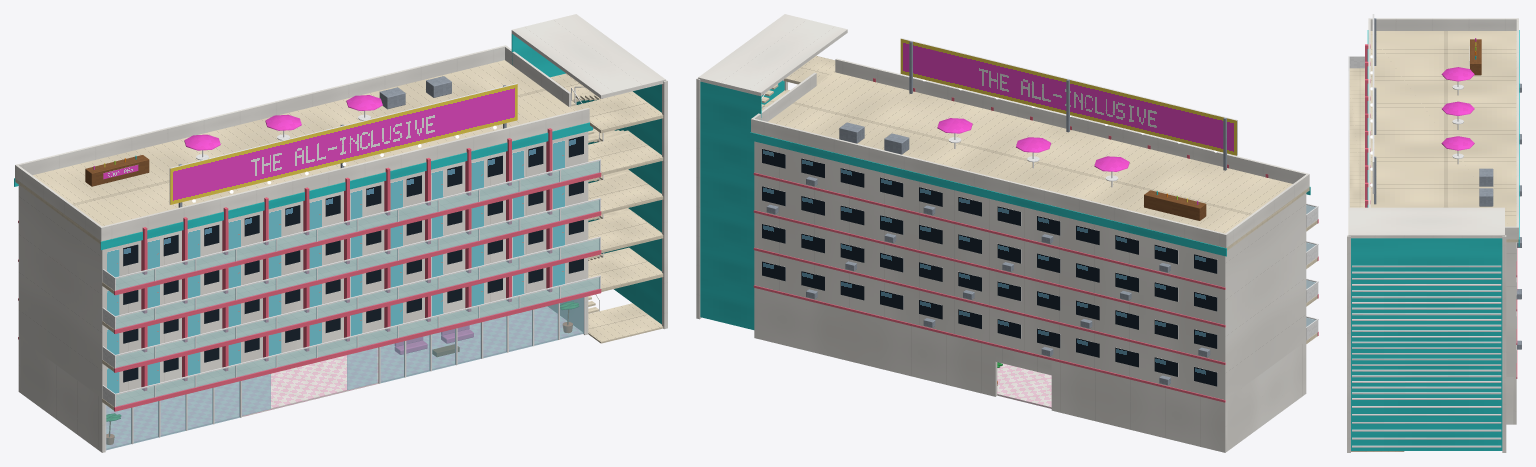
Rendered from p_ai_hotel.glb.
3 renders of one model, left to right at view 1: azimuth 30°, elevation 25°; view 2: azimuth 150°, elevation 25°; view 3: azimuth 270°, elevation 25°, orthographic. The views are drawn at different scales.
Parts seen in each view (by area): view 1: p_ai_hotel_lod0; view 2: p_ai_hotel_lod0; view 3: p_ai_hotel_lod0.
Part boxes in pixels (x1=…): p_ai_hotel_lod0: x1=14, y1=14, x2=667, y2=452; p_ai_hotel_lod0: x1=696, y1=14, x2=1318, y2=452; p_ai_hotel_lod0: x1=1347, y1=14, x2=1521, y2=452.
Size of what is drawn, in the model's own units: 47.97 by 22.26 by 14.96.
4 materials, 2 textured.
